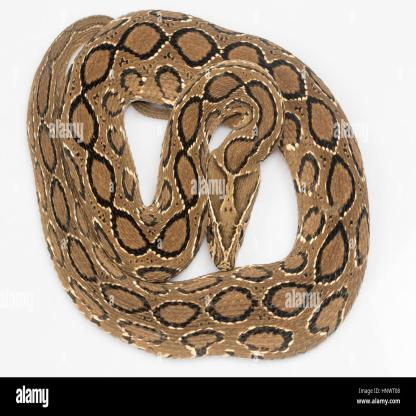Snake: (26, 10, 368, 357)
